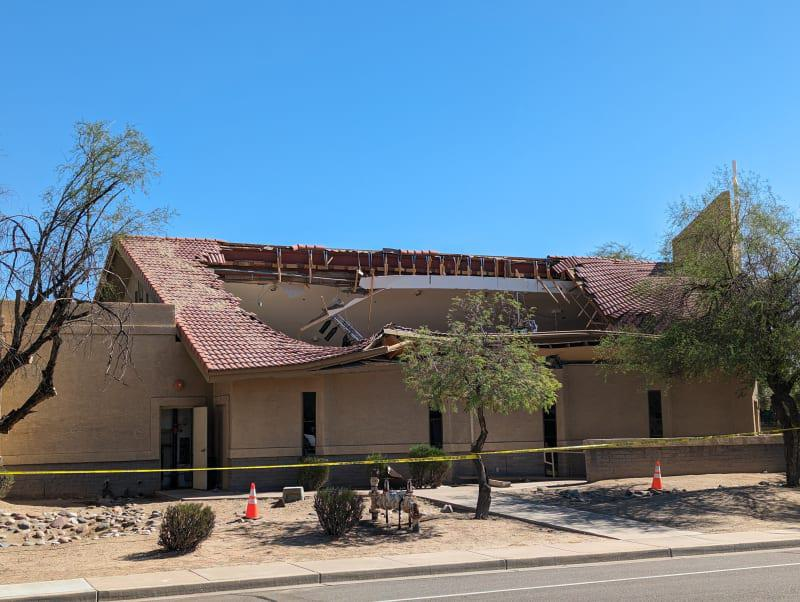sagging_roof: (192, 222, 634, 352)
